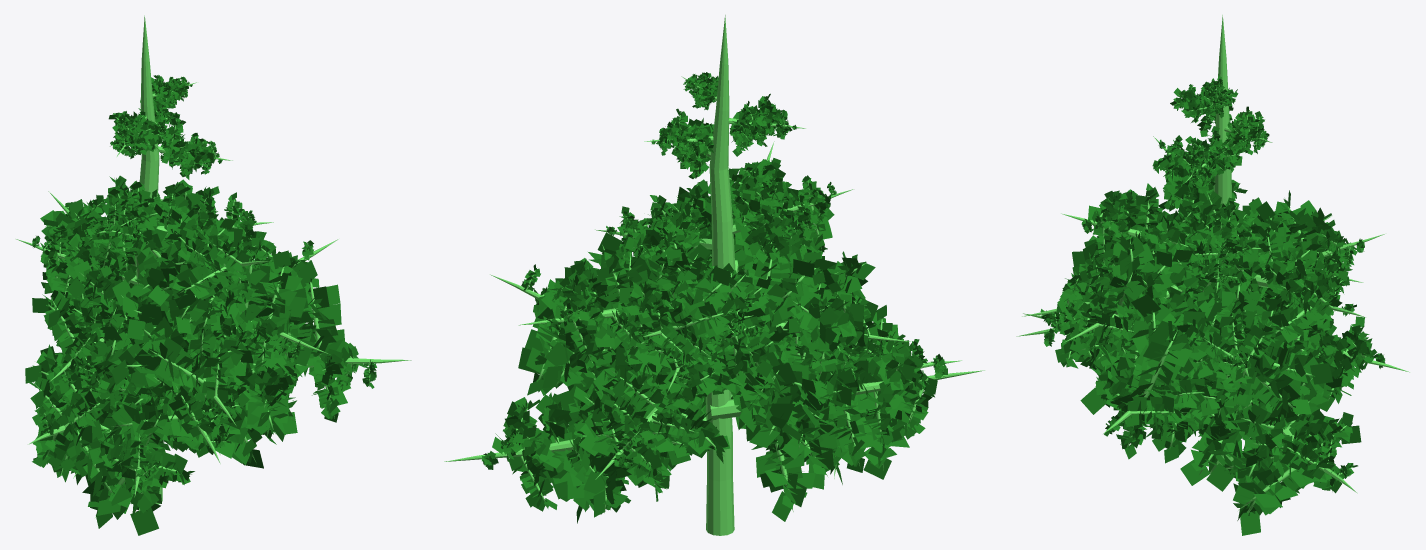
The model's file is Tree 2.fbx.
3 views of the same model, side by side, from view 1: azimuth 30°, elevation 25°; view 2: azimuth 150°, elevation 25°; view 3: azimuth 270°, elevation 25° (orthographic). The views are drawn at different scales.
Parts seen in each view (by area): view 1: Tree2.002; view 2: Tree2.002; view 3: Tree2.002.
Part boxes in pixels (x1=…): Tree2.002: x1=16, y1=15, x2=411, y2=535; Tree2.002: x1=444, y1=15, x2=984, y2=535; Tree2.002: x1=1016, y1=15, x2=1409, y2=535.
Bounding box in the file's own units: 5029 × 6089 × 4711.
